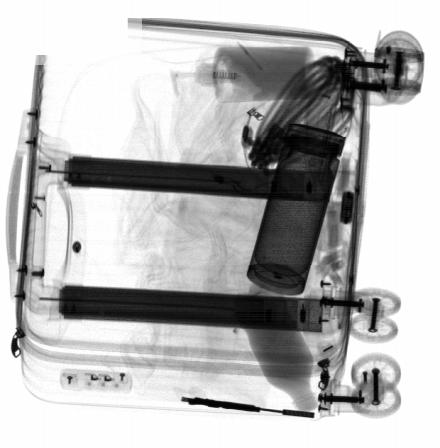Gun: (180, 393, 316, 421)
